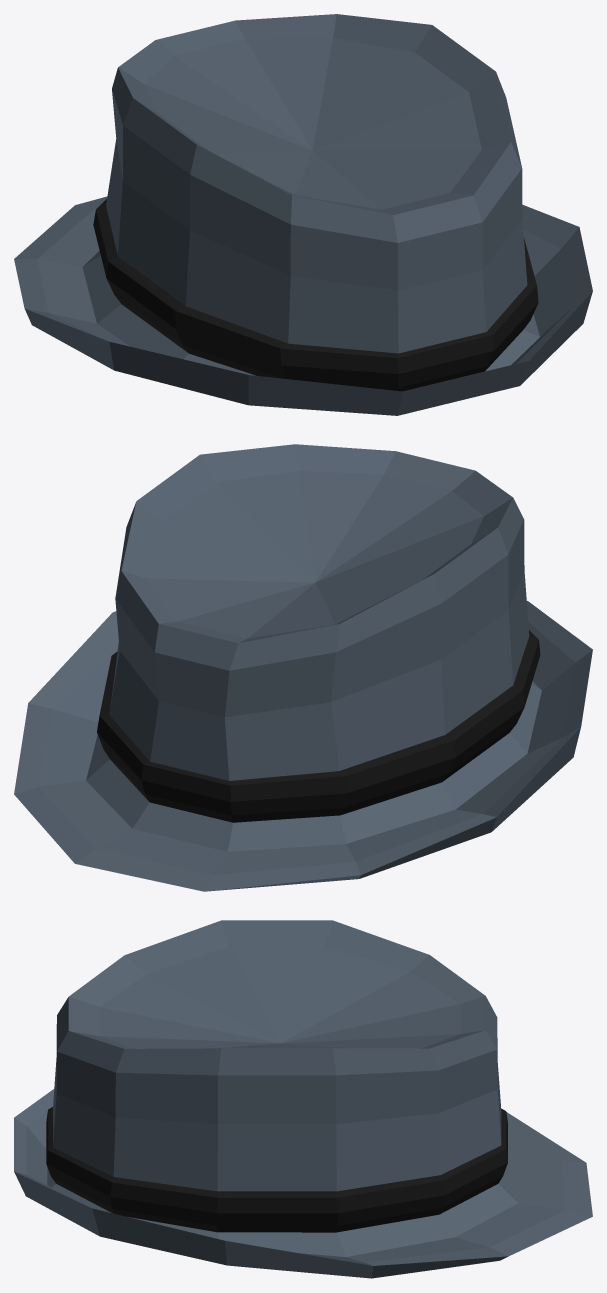
File: hat.001.fbx
The picture shows the model from 3 angles, top to bottom: view 1: azimuth 30°, elevation 25°; view 2: azimuth 150°, elevation 25°; view 3: azimuth 270°, elevation 25°; orthographic projection. The views are drawn at different scales.
Parts seen in each view (by area): view 1: hat.001; view 2: hat.001; view 3: hat.001.
Part boxes in pixels (x1,y1,x2,y2): hat.001: (14, 14, 592, 415); hat.001: (14, 444, 592, 891); hat.001: (14, 920, 592, 1278).
Size of the model in its own units: 21.83 by 10.52 by 26.57.
